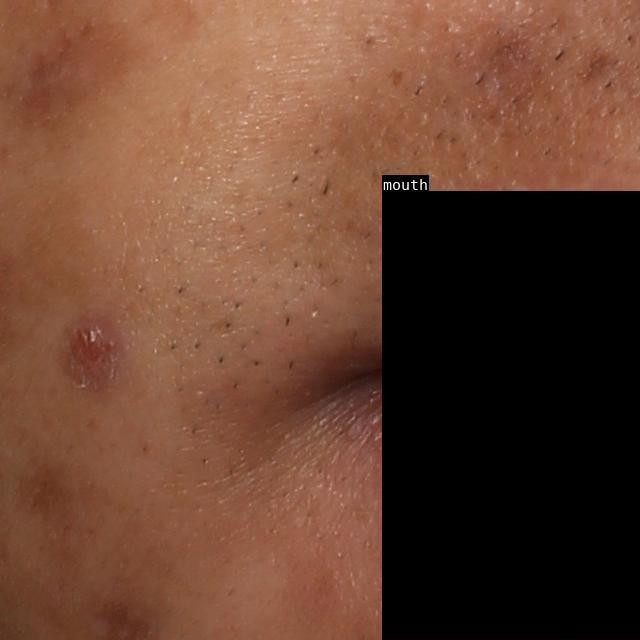papule: (67, 321, 114, 377)
